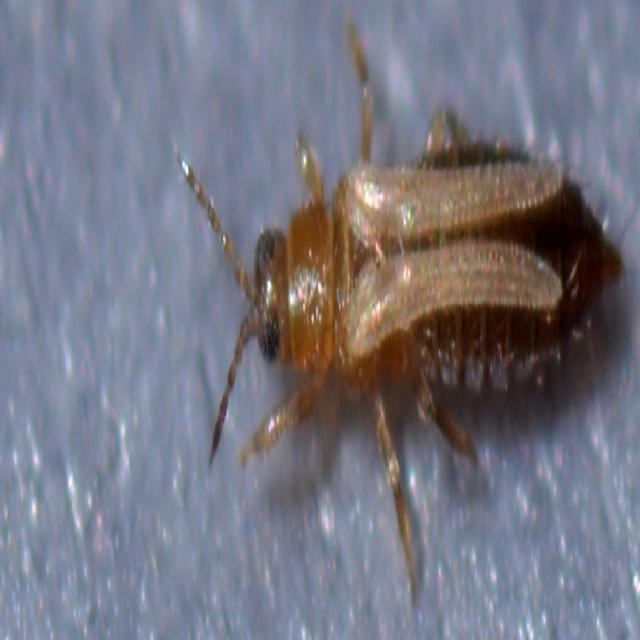Thrip-Adult-: (162, 48, 628, 560)
